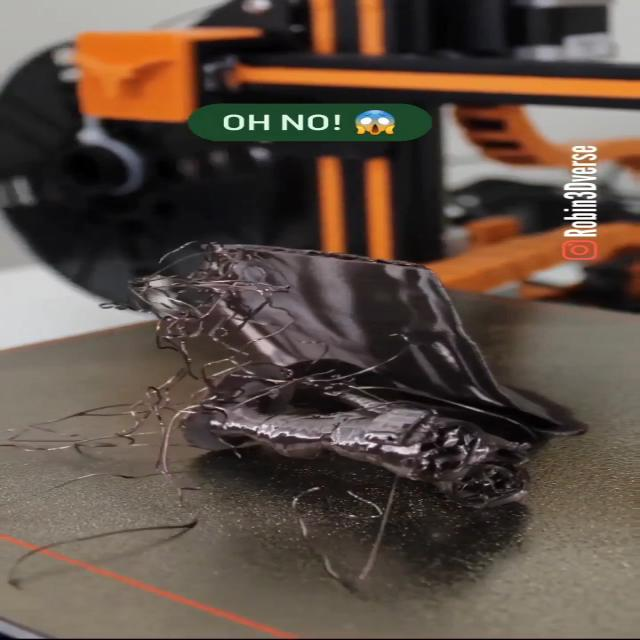spaghetti: (0, 244, 432, 596)
